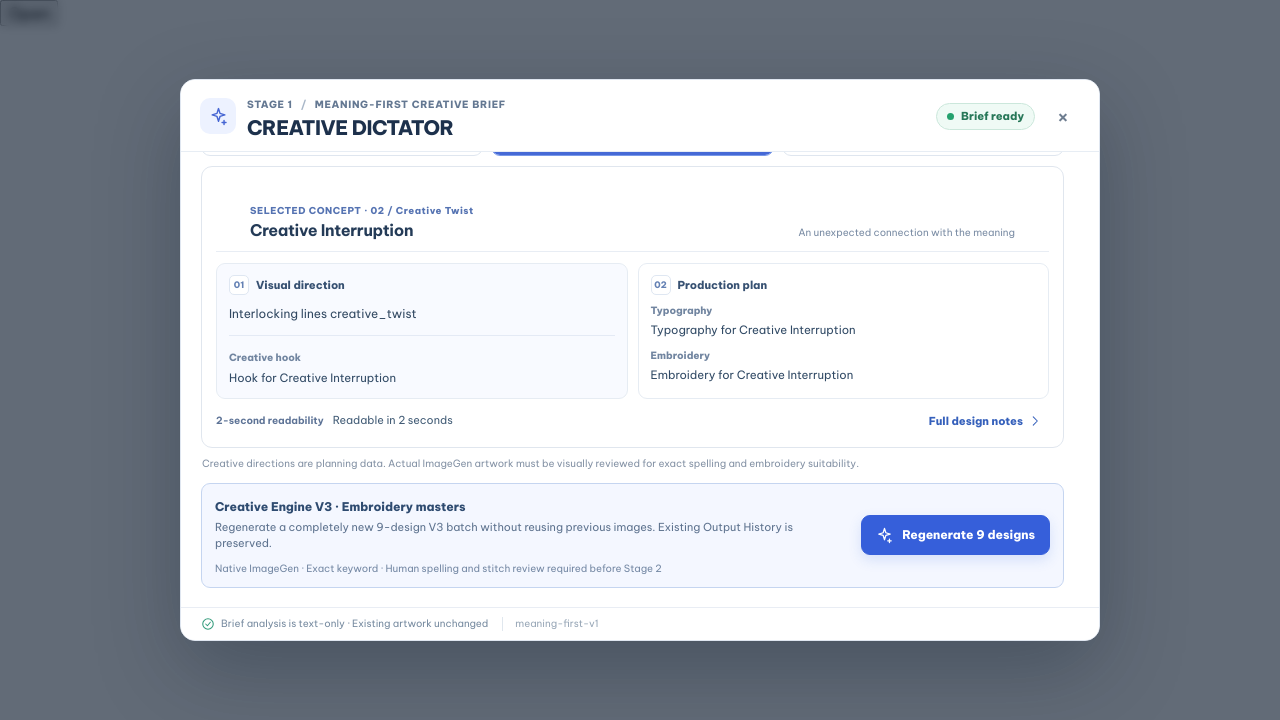
Test case: Creative Brief V1 modal redesign › requires two explicit clicks and uses Regenerate for a keyword with existing Stage 1 history
(page scrolled)
Step 1. Click the button "Regenerate 9 designs" → (956, 535), box [861,515,1050,555]
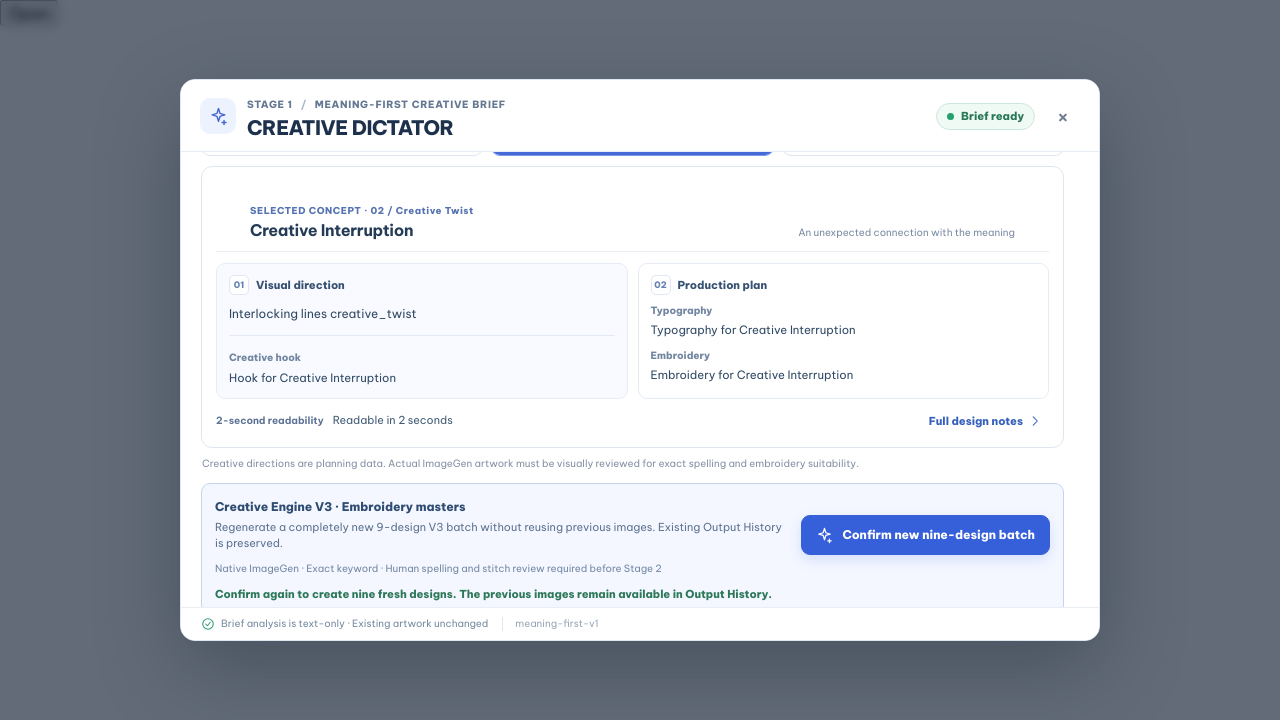
Now the button "Confirm new nine-design batch" is shown
Step 2. Click the button "Confirm new nine-design batch" → (926, 535), box [801,515,1050,555]
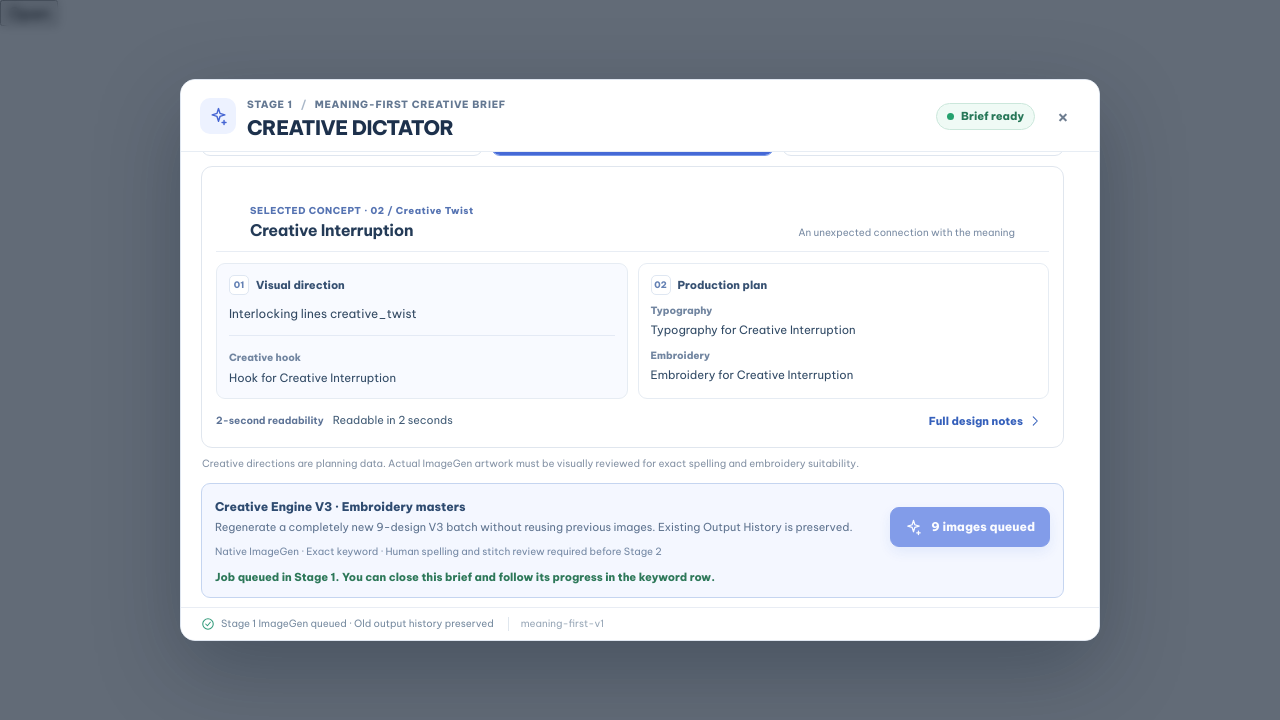
Now the button "9 images queued" is disabled, box [890,507,1050,547]
